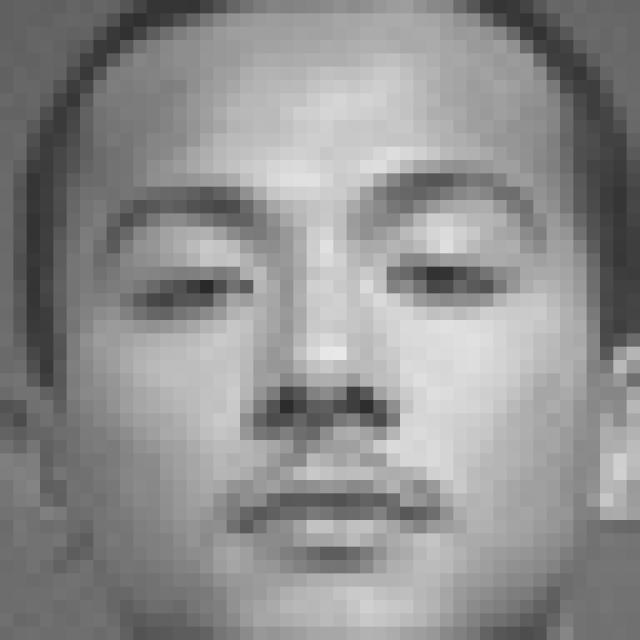neutral: (97, 157, 557, 585)
